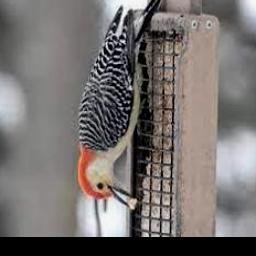Woodpecker: (78, 0, 167, 209)
